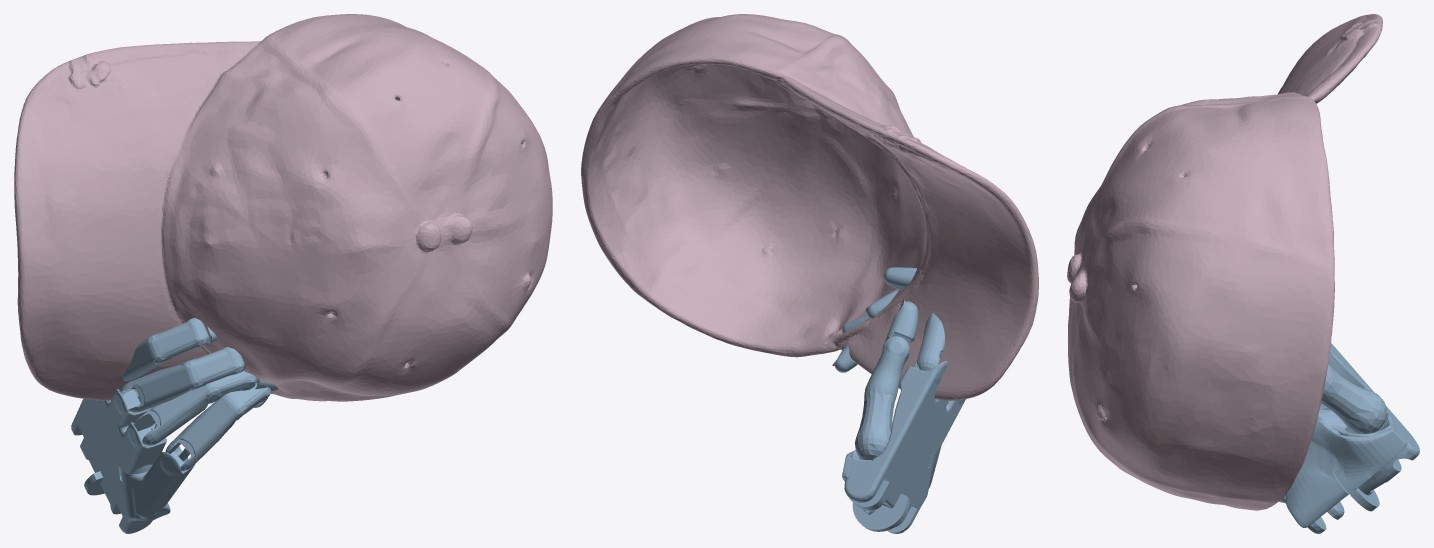
The picture shows the model from 3 angles, left to right: view 1: azimuth 30°, elevation 25°; view 2: azimuth 150°, elevation 25°; view 3: azimuth 270°, elevation 25°; orthographic projection. The views are drawn at different scales.
Parts seen in each view (by area): view 1: obj_mesh_grasp_15.obj, world; view 2: obj_mesh_grasp_15.obj, world; view 3: obj_mesh_grasp_15.obj, world.
Part boxes in pixels (<box>): obj_mesh_grasp_15.obj: <box>14,14,552,401</box>; world: <box>71,318,278,533</box>; obj_mesh_grasp_15.obj: <box>581,14,1038,400</box>; world: <box>832,267,965,533</box>; obj_mesh_grasp_15.obj: <box>1067,14,1382,510</box>; world: <box>1279,343,1419,533</box>.
Bounding box in the file's own units: 0.347 × 0.3253 × 0.2038.
